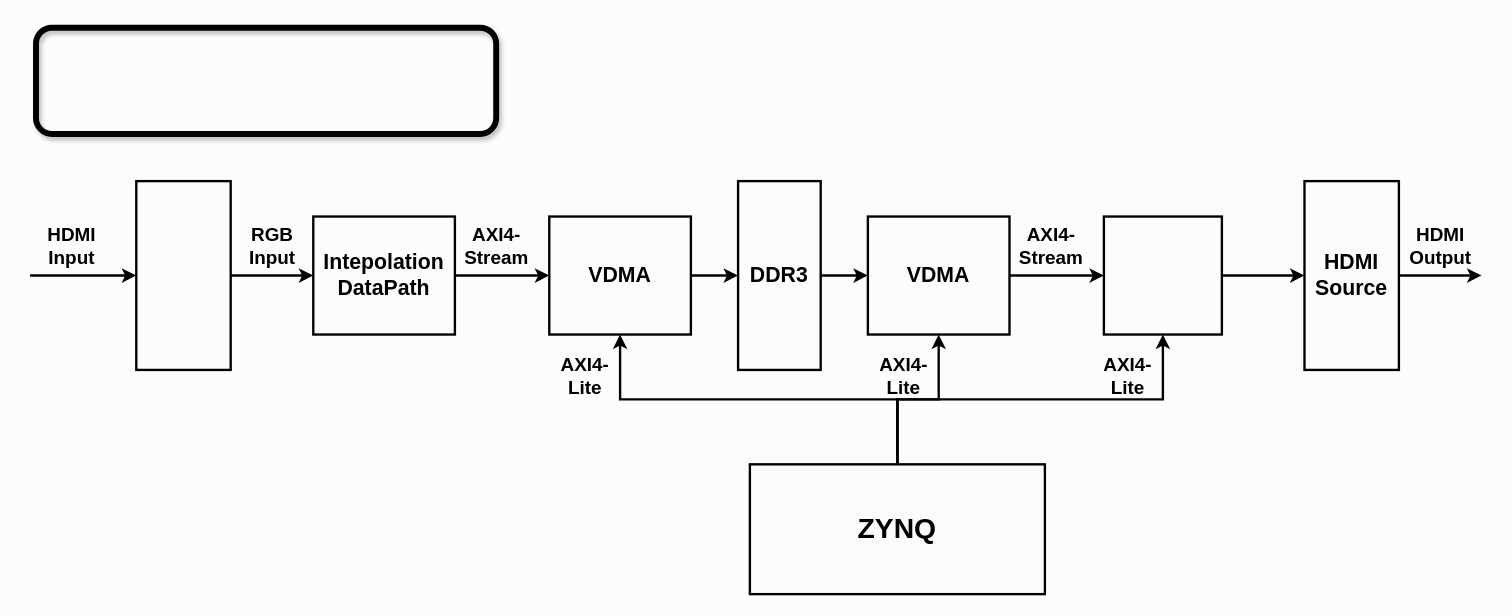
This 1512x616 diagram has some shape labels left out. Here are the shapes that lost their labels. From the top down, the centre of each, then its label:
At point 267,82: "Image Intepolation Diagram".
At point 183,275: "HDMI Sink".
At point 1162,275: "Timing Controllor".
